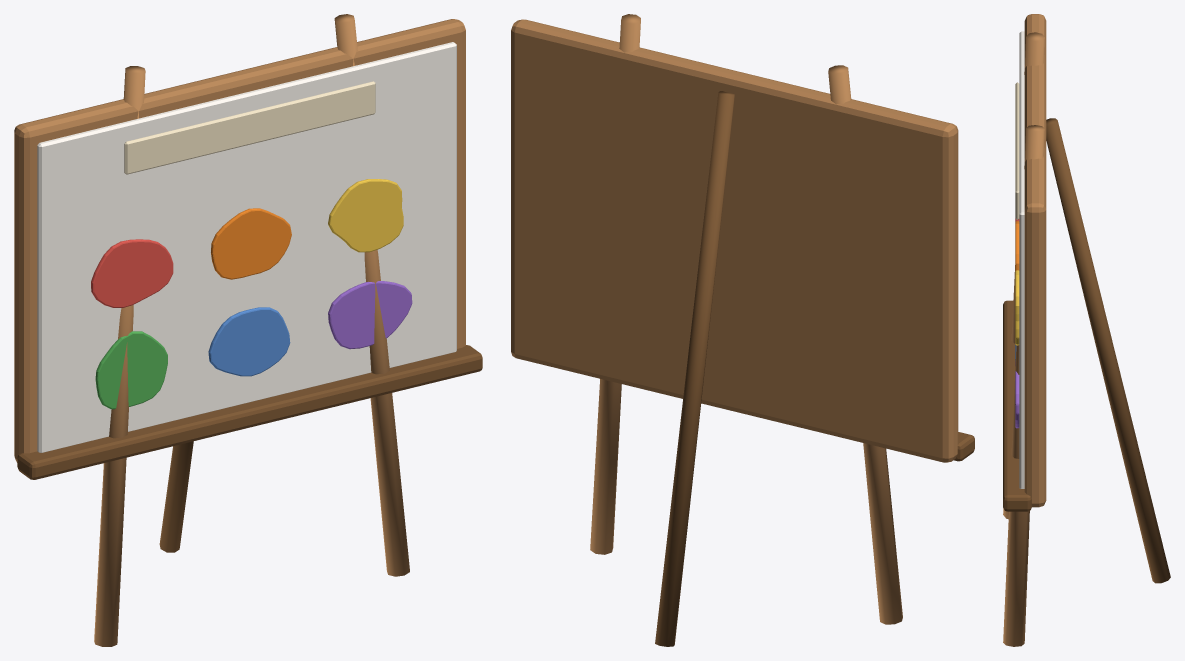
The model's file is quadro-das-cores.glb.
3 views of the same model, side by side, from view 1: azimuth 30°, elevation 25°; view 2: azimuth 150°, elevation 25°; view 3: azimuth 270°, elevation 25° (orthographic). The views are drawn at different scales.
Parts seen in each view (by area): view 1: quadro, cor-1, cor-2, cor-5, cor-3, cor-6, cor-4; view 2: quadro; view 3: quadro, cor-3, cor-6.
Boxes of the visible parts, box(x1,y1,x2,y2) form: quadro: box(14, 14, 482, 646); cor-1: box(91, 239, 173, 307); cor-2: box(211, 208, 291, 279); cor-5: box(208, 307, 290, 376); cor-3: box(328, 179, 403, 252); cor-6: box(328, 281, 412, 349); cor-4: box(95, 331, 167, 409); quadro: box(511, 14, 974, 646); quadro: box(1003, 14, 1170, 646); cor-3: box(1015, 270, 1019, 345); cor-6: box(1015, 361, 1019, 428).
Size of the model in its own units: 1.3 by 1.53 by 0.4654.
